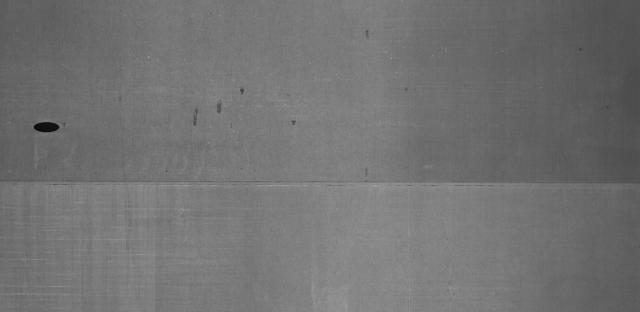punching_hole: (24, 116, 67, 138)
welding_line: (1, 173, 637, 191)
